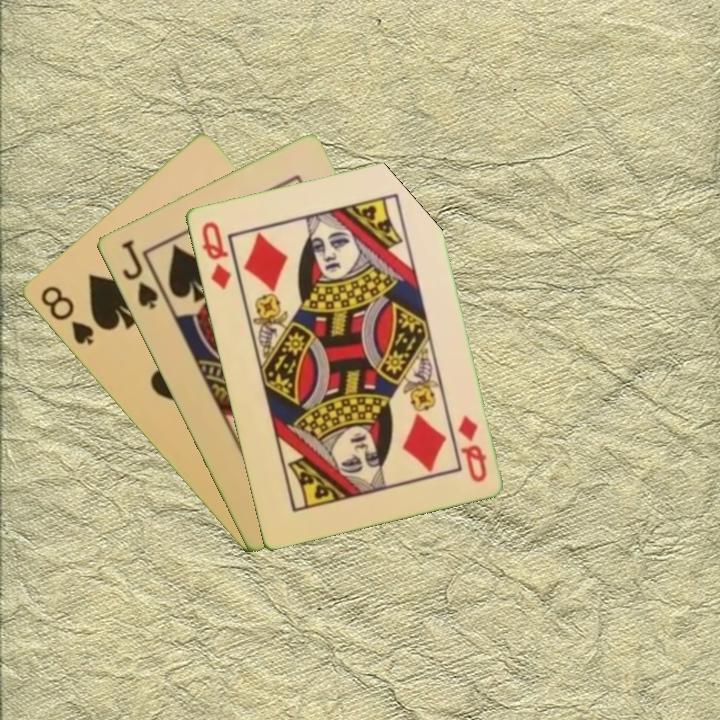8s: (36, 282, 97, 348)
Js: (117, 236, 161, 312)
Qd: (197, 217, 234, 292), (453, 411, 489, 485)
